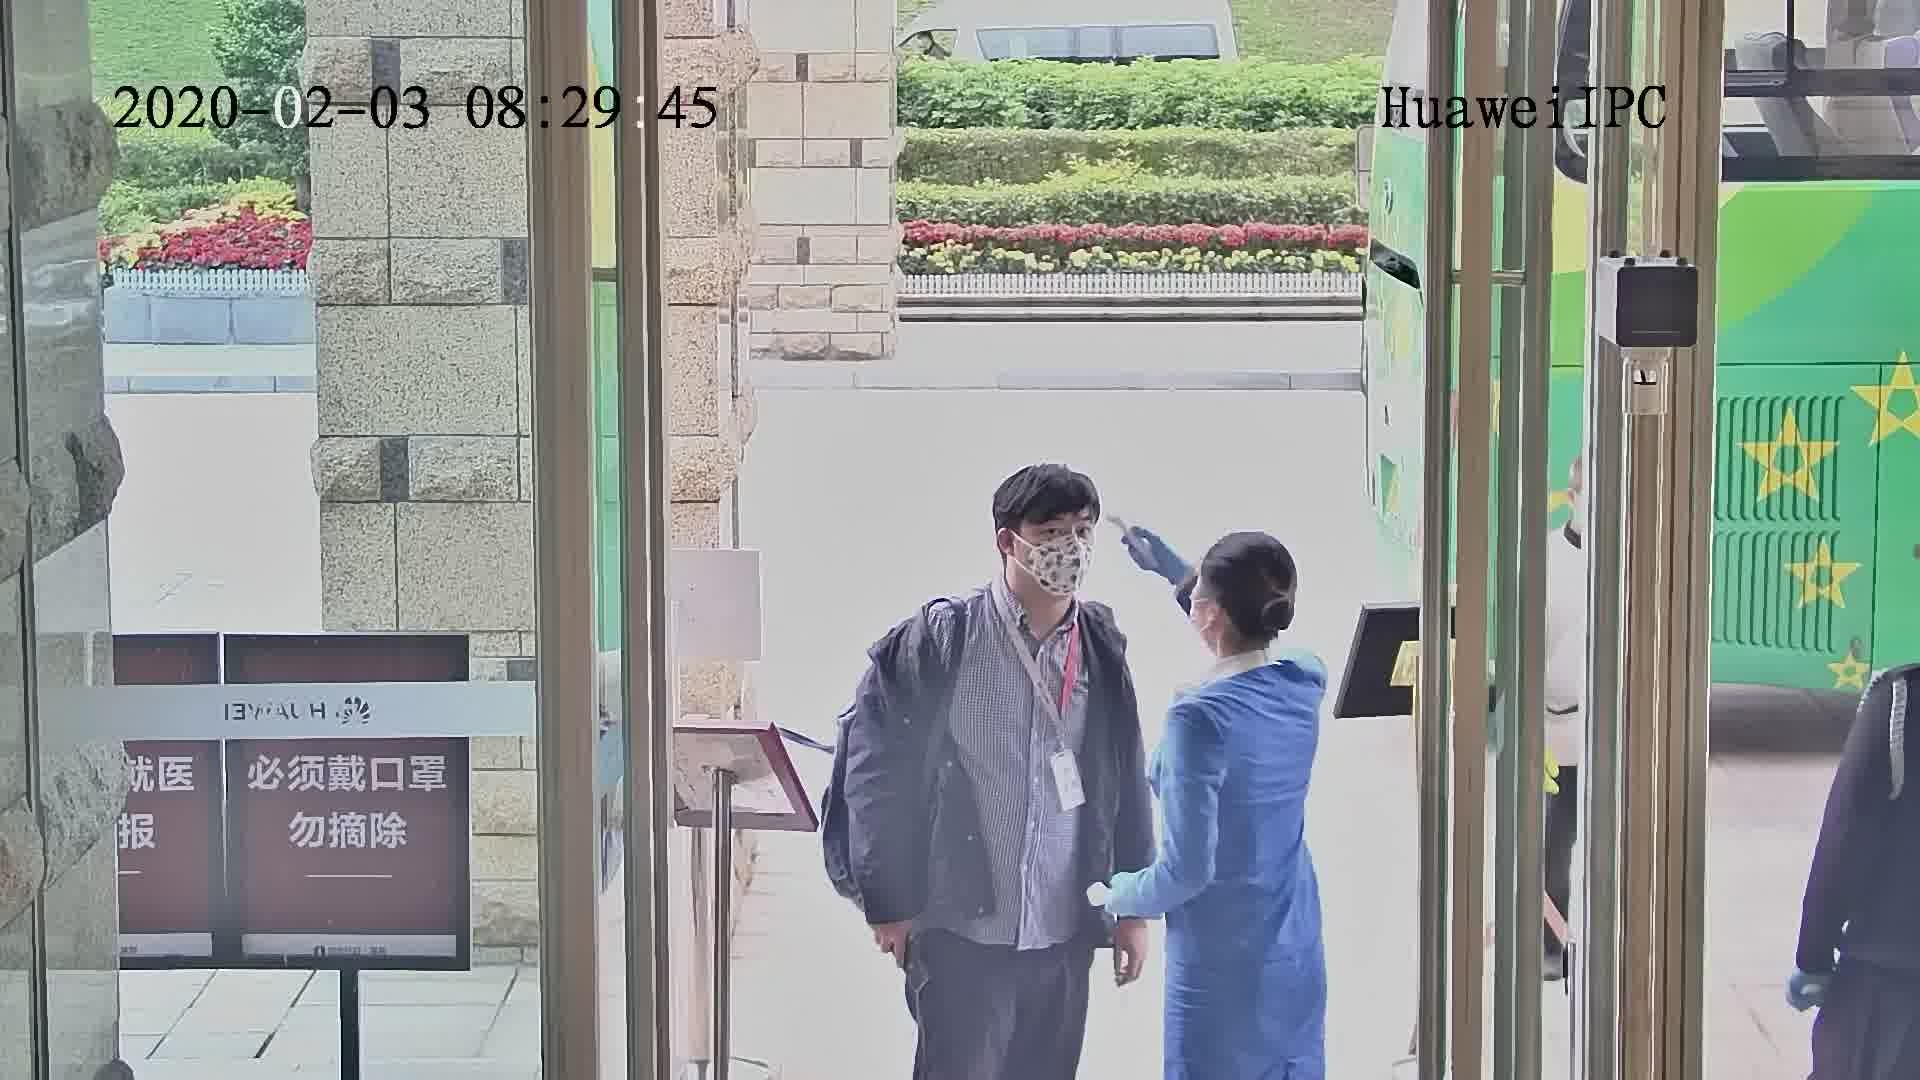face: (1018, 511, 1089, 606)
mask: (1029, 529, 1085, 602)
person: (862, 463, 1160, 686), (1156, 523, 1327, 758)
